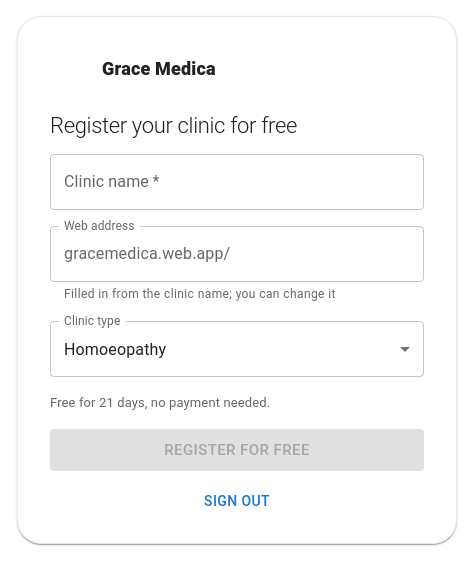
Test: SetupPage › still blocks a slug taken between the check and the submit
Type "Sun Clinic" into the field labelled "Clinic name *" at (237, 182), box [50,154,424,210]
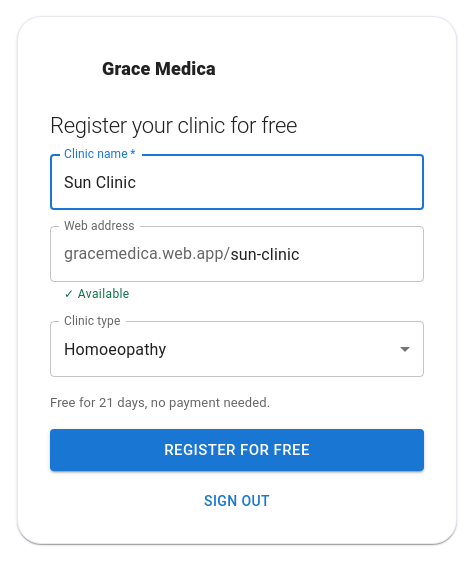
Expected: the text "✓ Available" is shown, [64,287,130,301]
Click the button "Register for free" at (237, 450), box [50,429,424,471]
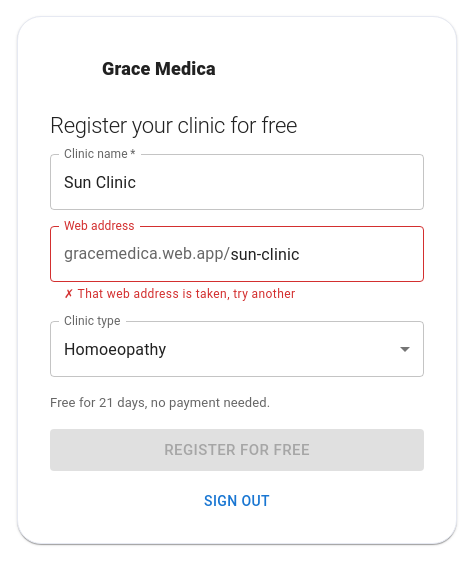
Expected: the text "✗ That web address is taken, try another" is shown, [64,287,295,301]
